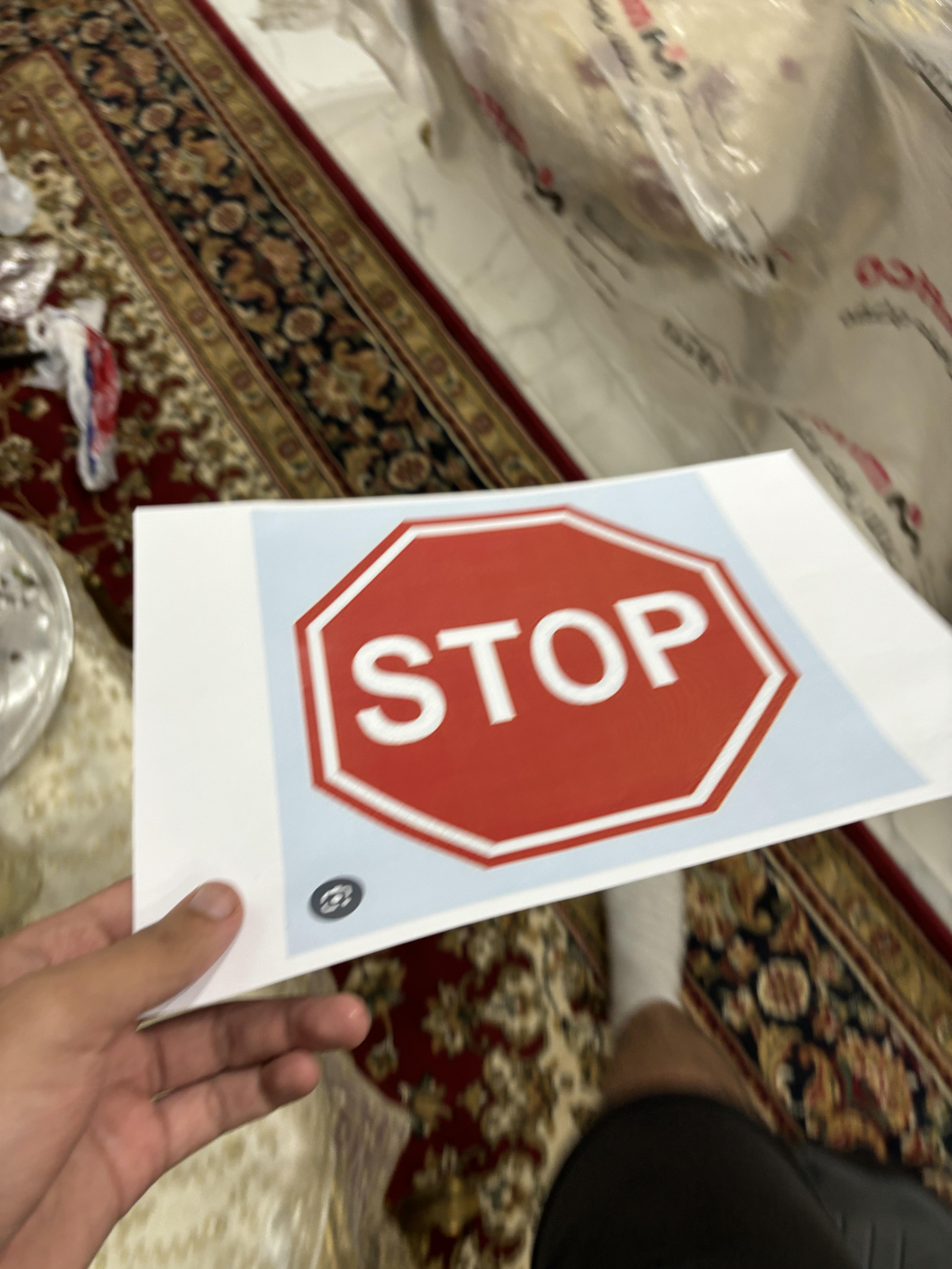Stop: (283, 498, 800, 872)
